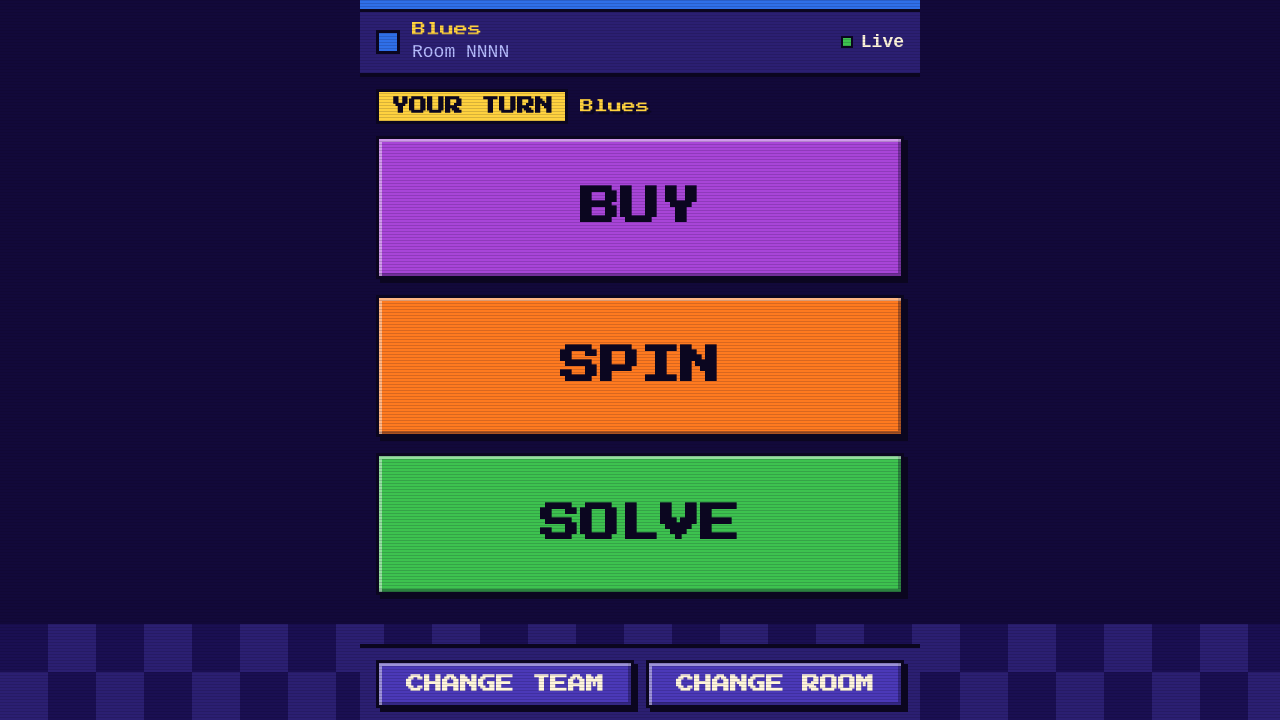
Test: podium › shows a short note from the ack of an action
The width and height of the screenshot is (1280, 720).
expect the text "Live" is shown: met, box 841,30 -> 904,55
Click the button "Spin" at (640, 366), box 376,294 -> 904,437
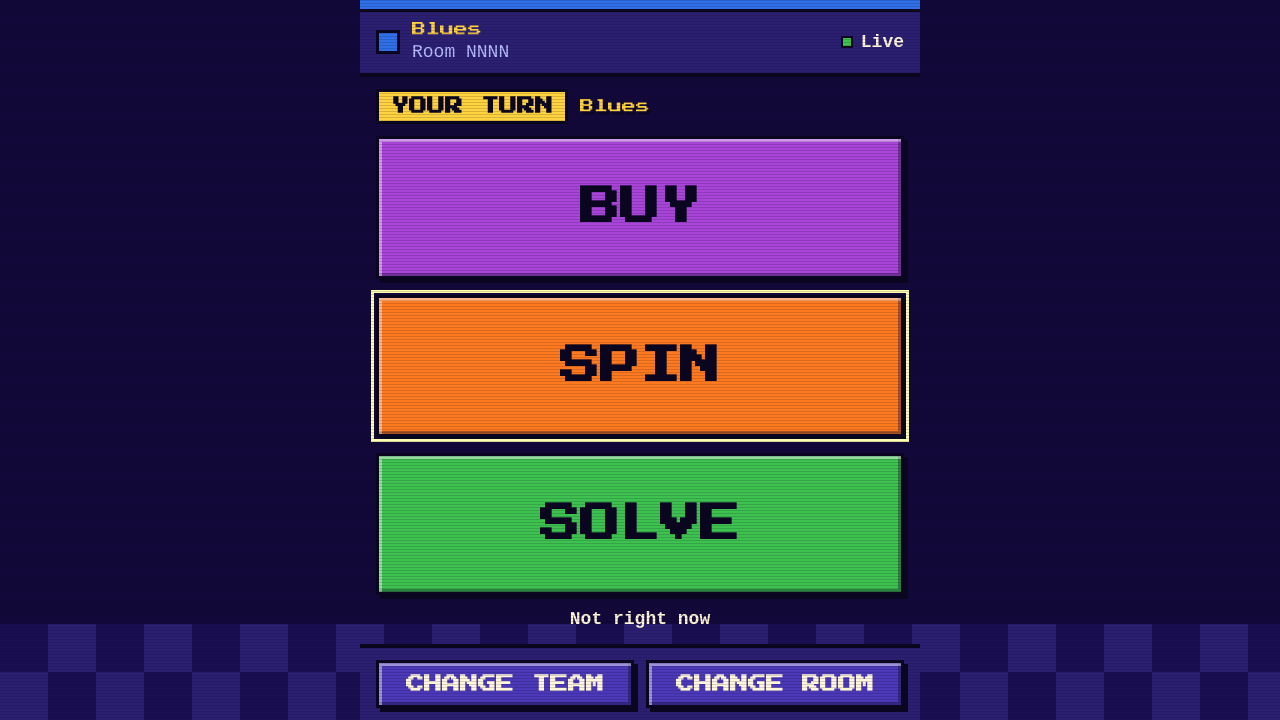
expect the text "Not right now" is shown: met, box 570,609 -> 710,629
